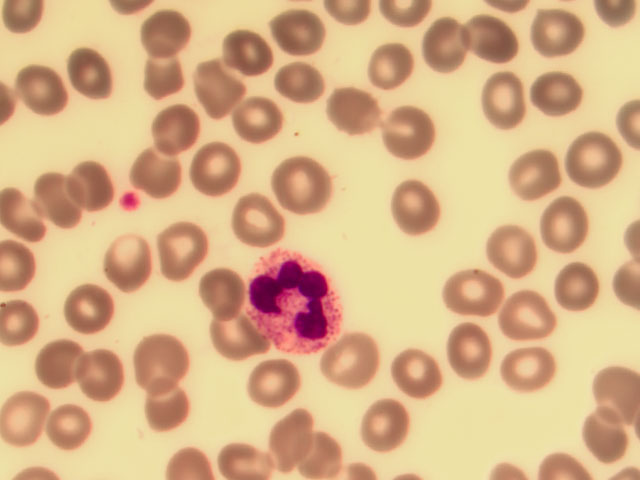Platelets: (118, 192, 141, 210)
RBC: (61, 44, 122, 104), (16, 65, 77, 125), (65, 154, 126, 214), (29, 167, 90, 227), (4, 189, 65, 249), (55, 281, 116, 341), (21, 337, 82, 397), (82, 352, 143, 412), (38, 400, 99, 460), (126, 327, 187, 387), (138, 385, 199, 445), (99, 232, 160, 292), (149, 218, 210, 278), (187, 256, 248, 316), (197, 309, 258, 369), (235, 353, 296, 413), (251, 405, 312, 465), (212, 420, 273, 480), (352, 397, 413, 457), (314, 333, 375, 393), (389, 344, 450, 404), (439, 322, 500, 382), (443, 264, 504, 324), (498, 278, 559, 338), (492, 342, 553, 402), (544, 255, 605, 315), (492, 225, 553, 285), (526, 198, 587, 258), (504, 142, 565, 202), (553, 129, 614, 189), (476, 72, 537, 132), (520, 64, 581, 124), (527, 2, 588, 62), (466, 7, 527, 67), (409, 17, 470, 77), (361, 36, 422, 96), (323, 75, 384, 135), (372, 93, 433, 153), (388, 171, 449, 231), (275, 159, 336, 219), (235, 192, 296, 252), (189, 145, 250, 205), (145, 143, 206, 203), (148, 105, 209, 165), (139, 54, 200, 114), (136, 15, 197, 75), (186, 56, 247, 116), (215, 27, 276, 87), (282, 9, 343, 69), (271, 64, 332, 124), (579, 355, 640, 415), (579, 409, 640, 469), (1, 389, 61, 449)
WBC: (248, 250, 344, 353)
